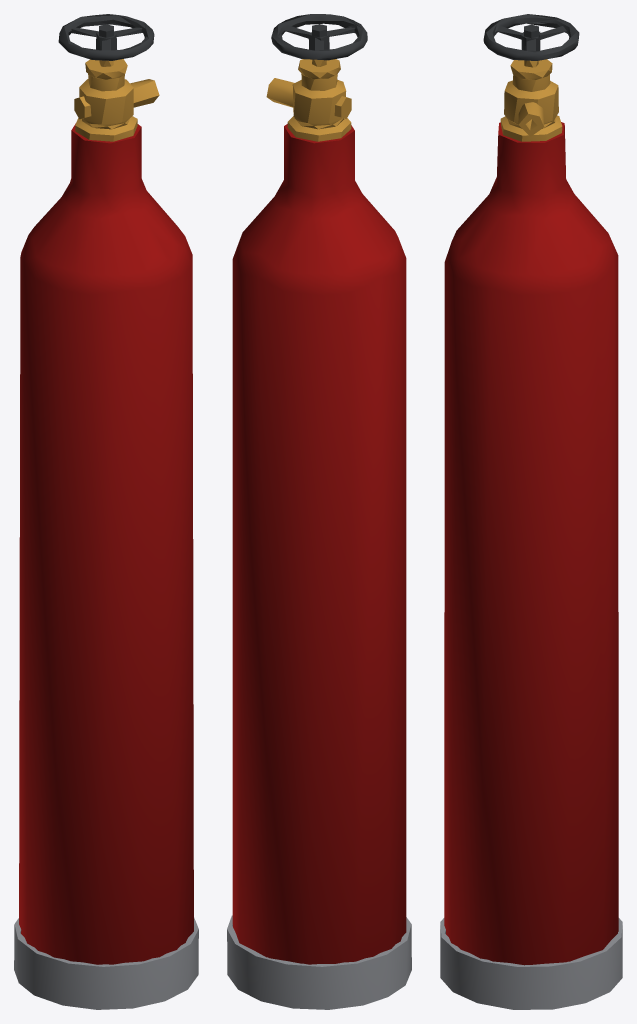
Rendered from gascyl.glb.
The picture shows the model from 3 angles, left to right: view 1: azimuth 30°, elevation 25°; view 2: azimuth 150°, elevation 25°; view 3: azimuth 270°, elevation 25°; orthographic projection.
Parts seen in each view (by area): view 1: cylinder, handwheel; view 2: cylinder, handwheel; view 3: cylinder, handwheel.
Part boxes in pixels (x1=…): cylinder: x1=14, y1=59, x2=198, y2=1009; handwheel: x1=58, y1=14, x2=154, y2=60; cylinder: x1=227, y1=59, x2=411, y2=1009; handwheel: x1=271, y1=14, x2=367, y2=60; cylinder: x1=440, y1=59, x2=622, y2=1009; handwheel: x1=483, y1=14, x2=579, y2=60.
Size of the model in its own units: 0.2112 by 1.2 by 0.2105.
